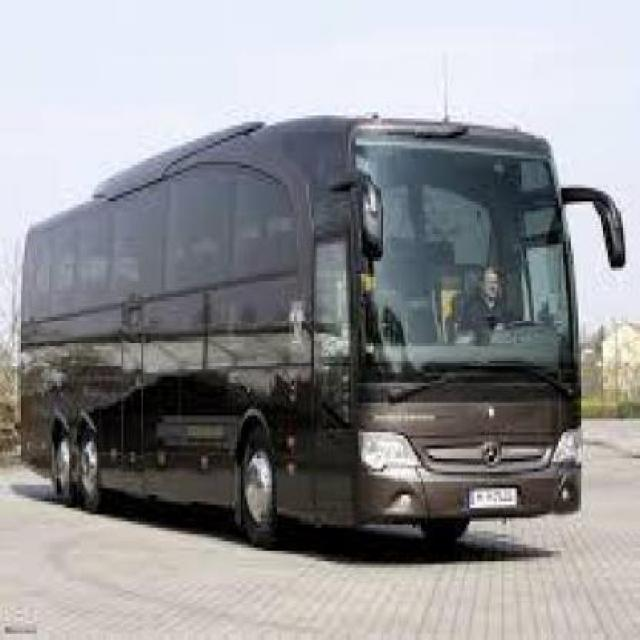bus: (20, 112, 627, 543)
